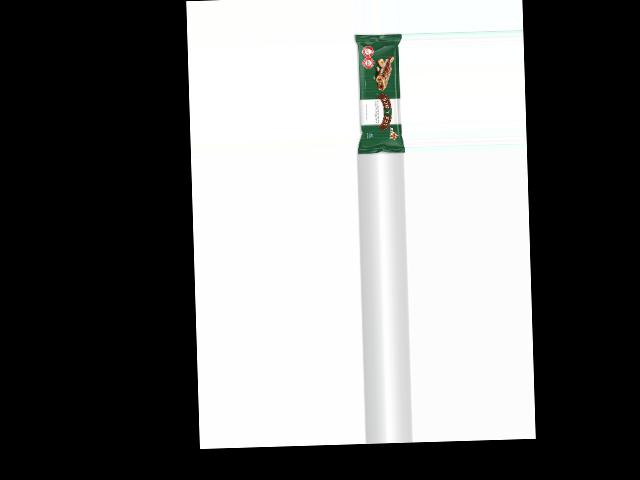chocolate: (351, 32, 405, 156)
